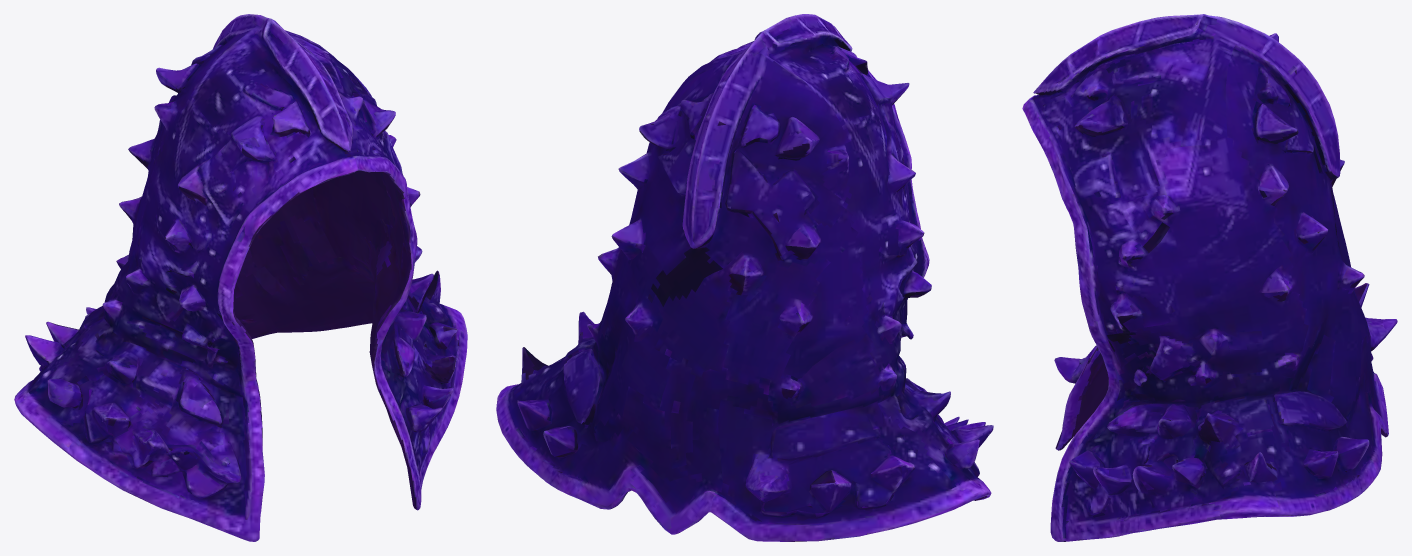
The model's file is duelista-elmo.glb.
The picture shows the model from 3 angles, left to right: view 1: azimuth 30°, elevation 25°; view 2: azimuth 150°, elevation 25°; view 3: azimuth 270°, elevation 25°; orthographic projection. The views are drawn at different scales.
Parts seen in each view (by area): view 1: tripo_node_bf0b5a91-03ce-45f5-92ba-40f3c4a253a6; view 2: tripo_node_bf0b5a91-03ce-45f5-92ba-40f3c4a253a6; view 3: tripo_node_bf0b5a91-03ce-45f5-92ba-40f3c4a253a6.
Boxes of the visible parts, x1,y1,x2,y2 form: tripo_node_bf0b5a91-03ce-45f5-92ba-40f3c4a253a6: (14, 14, 467, 541); tripo_node_bf0b5a91-03ce-45f5-92ba-40f3c4a253a6: (496, 14, 993, 541); tripo_node_bf0b5a91-03ce-45f5-92ba-40f3c4a253a6: (1022, 14, 1397, 541).
Bounding box in the file's own units: 0.9773 × 0.9741 × 0.681.
Materials: 1 (1 with a texture image).
